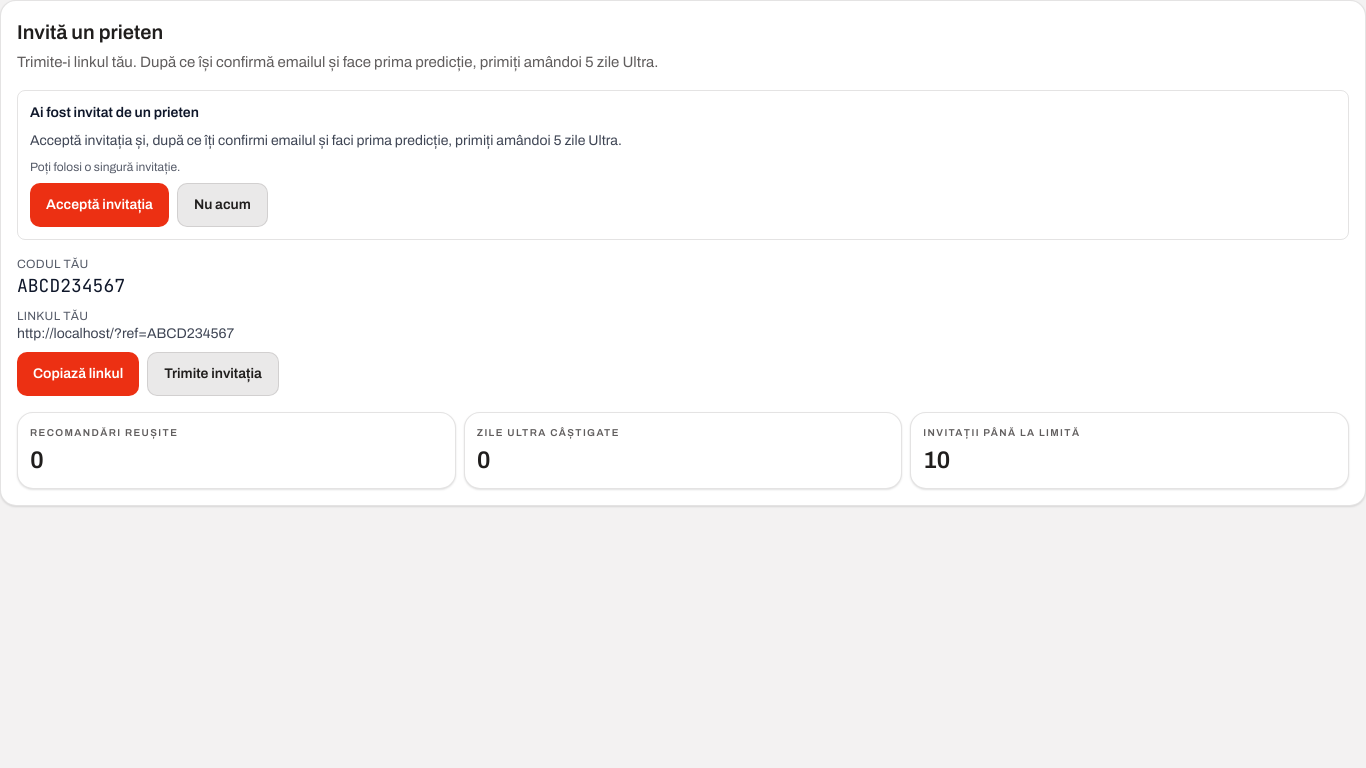
Test: claiming an invitation › maps rate limiting to a wait-and-retry message
What coordinates should you click on to do the following:
click the button "Acceptă invitația"
I would click on:
 (99, 204)
Its box is [30, 182, 169, 226].
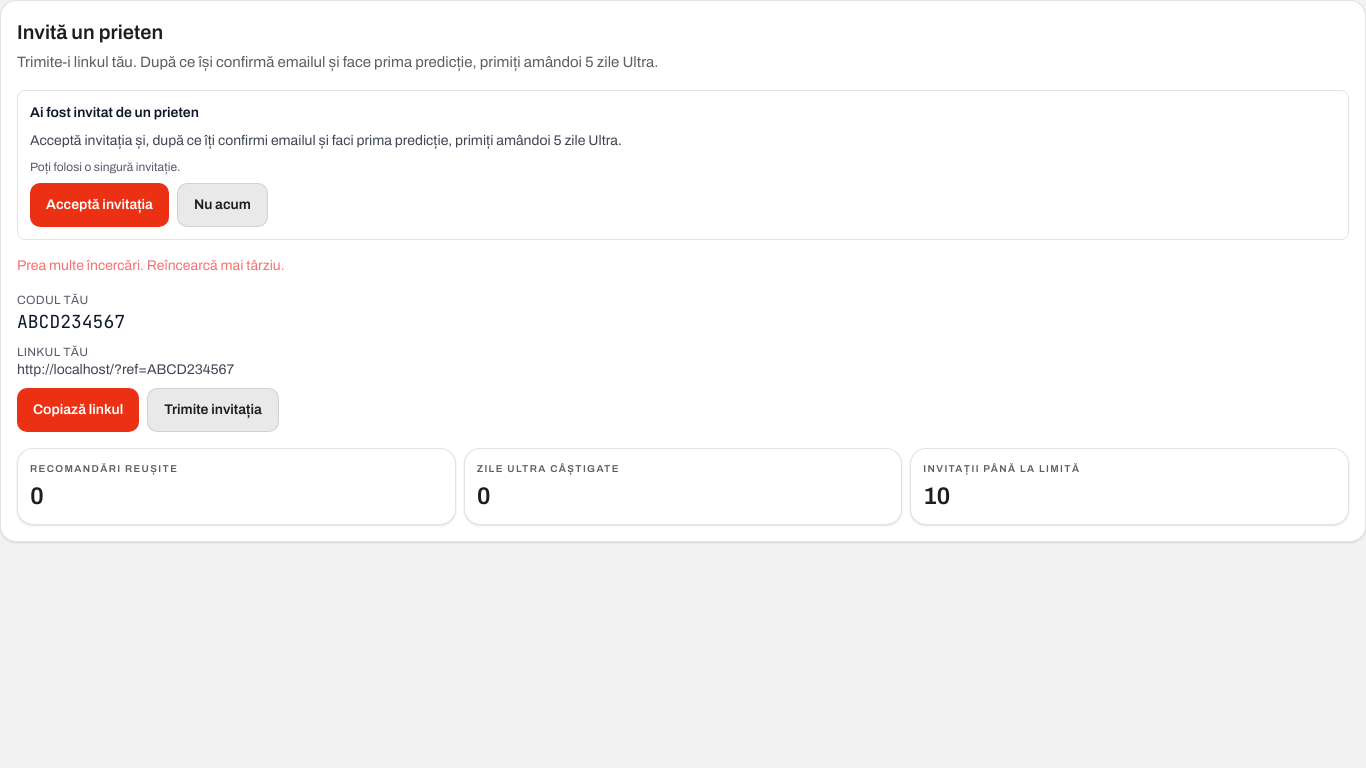
Expected: the text "Prea multe încercări. Reîncearcă mai târziu." is shown, [17, 258, 284, 272]
